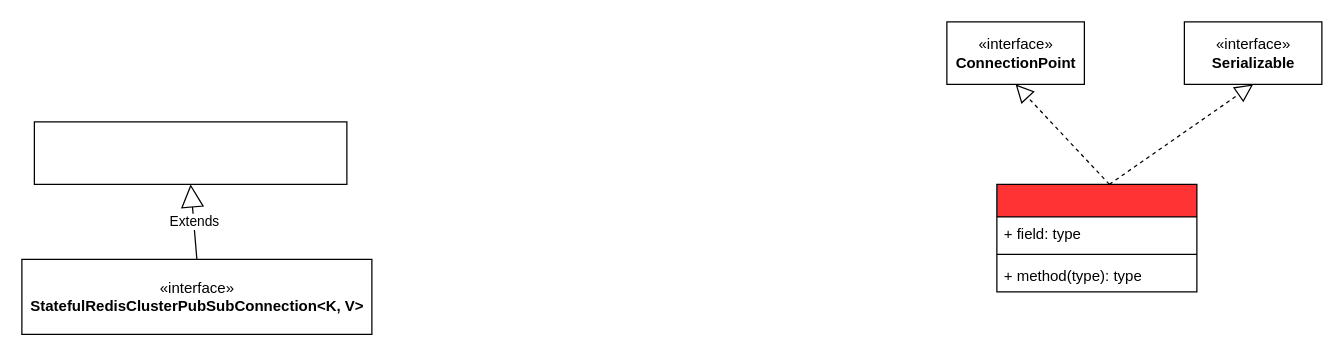
Some shapes in this 1344 by 356 pixel diagram are drawn without their labels. Here are the shapes that lost their labels. From the top down, the box of each, then its label:
(33, 121, 347, 184): «interface» StatefulRedisPubSubConnection<K, V>
(996, 183, 1197, 292): RedisURI
